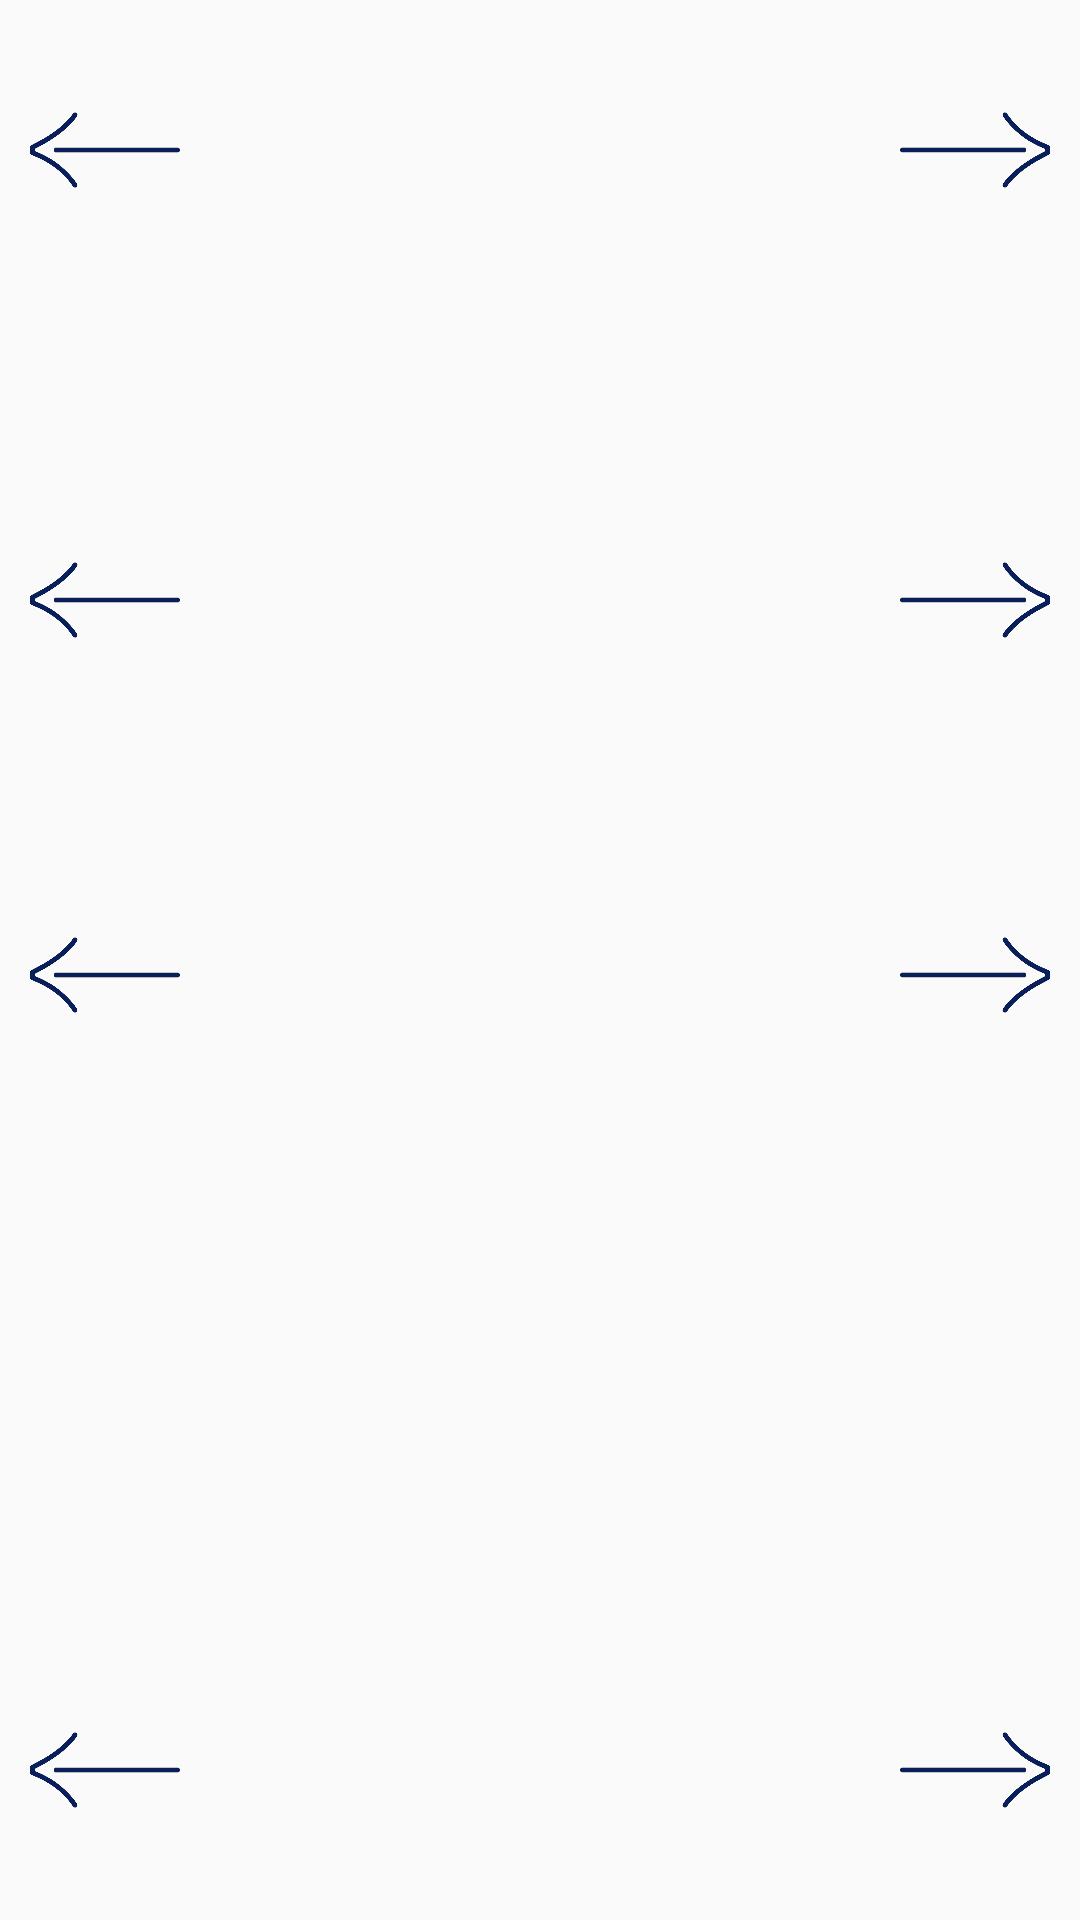

Where icons sit on this 1080px×1920px app screen, as [left=x1, top=y1, right=x2, bottom=y2]:
arrowleft: [left=30, top=112, right=180, bottom=188], [left=30, top=562, right=180, bottom=638], [left=30, top=937, right=180, bottom=1013], [left=30, top=1732, right=180, bottom=1808]
arrowright: [left=900, top=112, right=1050, bottom=188], [left=900, top=562, right=1050, bottom=638], [left=900, top=937, right=1050, bottom=1013], [left=900, top=1732, right=1050, bottom=1808]
